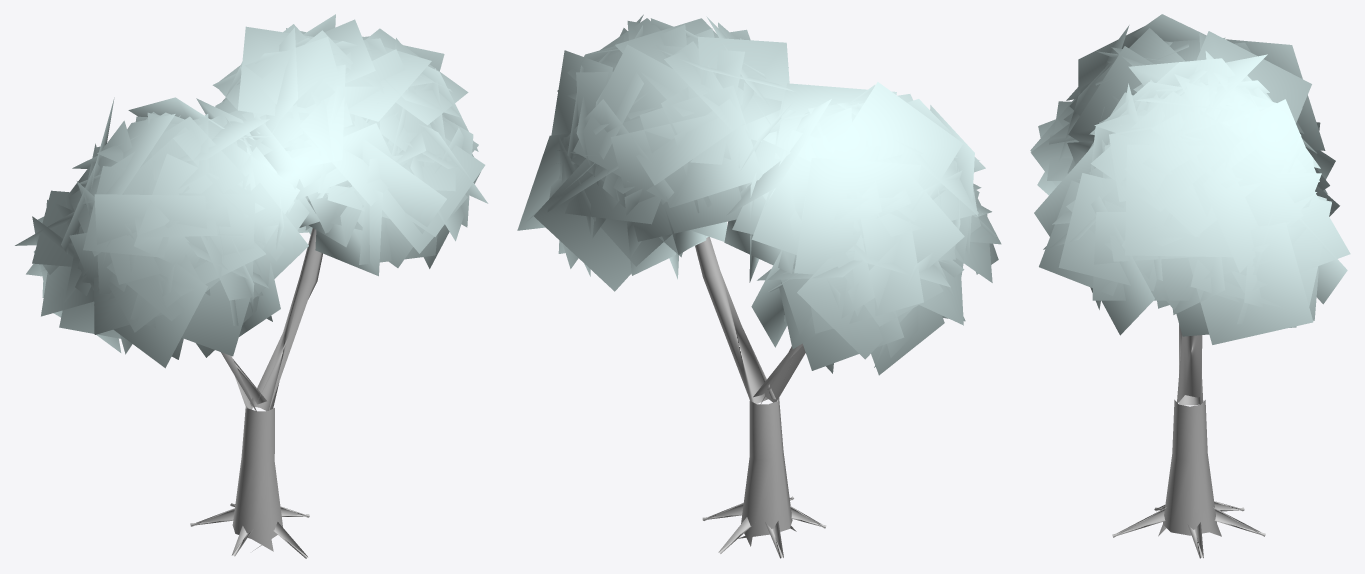
Rendered from oak_forked.gltf.
3 renders of one model, left to right at view 1: azimuth 30°, elevation 25°; view 2: azimuth 150°, elevation 25°; view 3: azimuth 270°, elevation 25°, orthographic. The views are drawn at different scales.
Visible parts, largest first — view 1: oak_forked_Leaf_Mid, oak_forked_Bark_Brown; view 2: oak_forked_Leaf_Mid, oak_forked_Bark_Brown; view 3: oak_forked_Leaf_Mid, oak_forked_Bark_Brown.
Part boxes in pixels (x1,y1,x2,y2): oak_forked_Leaf_Mid: (15, 14, 488, 368); oak_forked_Bark_Brown: (190, 228, 322, 558); oak_forked_Leaf_Mid: (517, 14, 1001, 375); oak_forked_Bark_Brown: (695, 237, 826, 558); oak_forked_Leaf_Mid: (1030, 14, 1350, 344); oak_forked_Bark_Brown: (1112, 324, 1265, 558).
Size of the model in its own units: 8.83 by 10.07 by 5.77.
